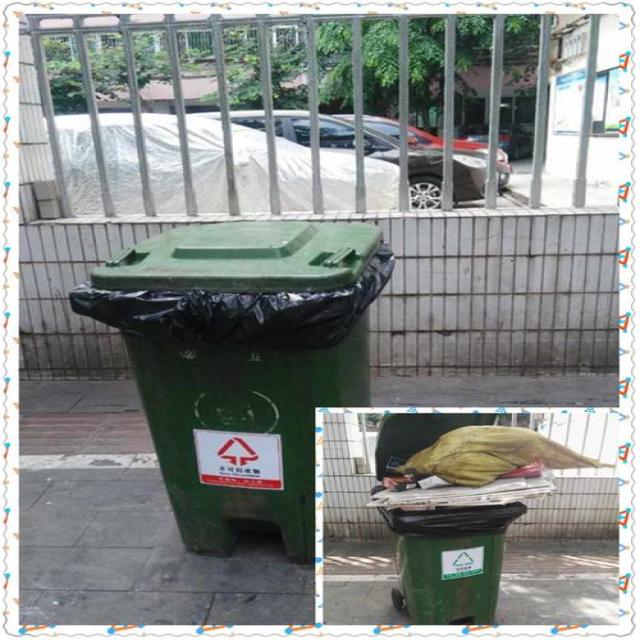garbage_bin: (67, 219, 396, 562)
overflow: (366, 411, 594, 622)
